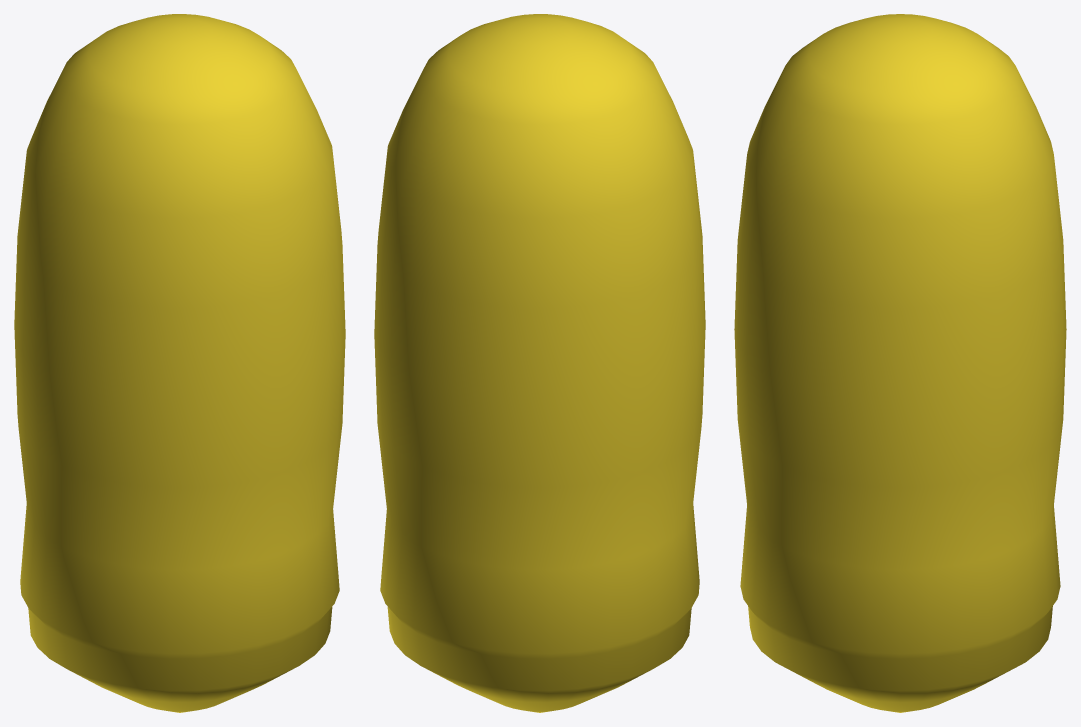
Rendered from bullet(1).fbx.
3 renders of one model, left to right at view 1: azimuth 30°, elevation 25°; view 2: azimuth 150°, elevation 25°; view 3: azimuth 270°, elevation 25°, orthographic.
Visible parts, largest first — view 1: Sphere; view 2: Sphere; view 3: Sphere.
Part boxes in pixels (left/top/right/bottom): Sphere: left=14, top=14, right=345, bottom=712; Sphere: left=374, top=14, right=705, bottom=712; Sphere: left=734, top=14, right=1066, bottom=712.
Bounding box in the file's own units: 123 × 278 × 123.
